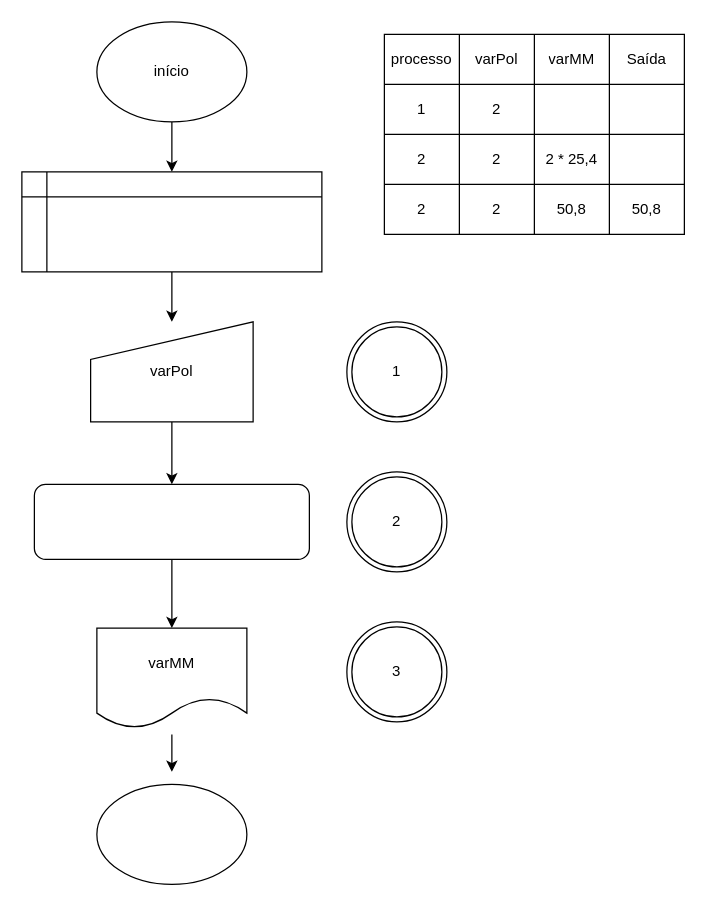
This 706x906 diagram has some shape labels left out. The shapes that lost their labels are listed below. From the top down, each one's centre as x and y in pixels, then its label:
pixel 171 221: varPol, varMM
pixel 171 521: varMM = (varPol * 25.4)
pixel 171 833: fim
